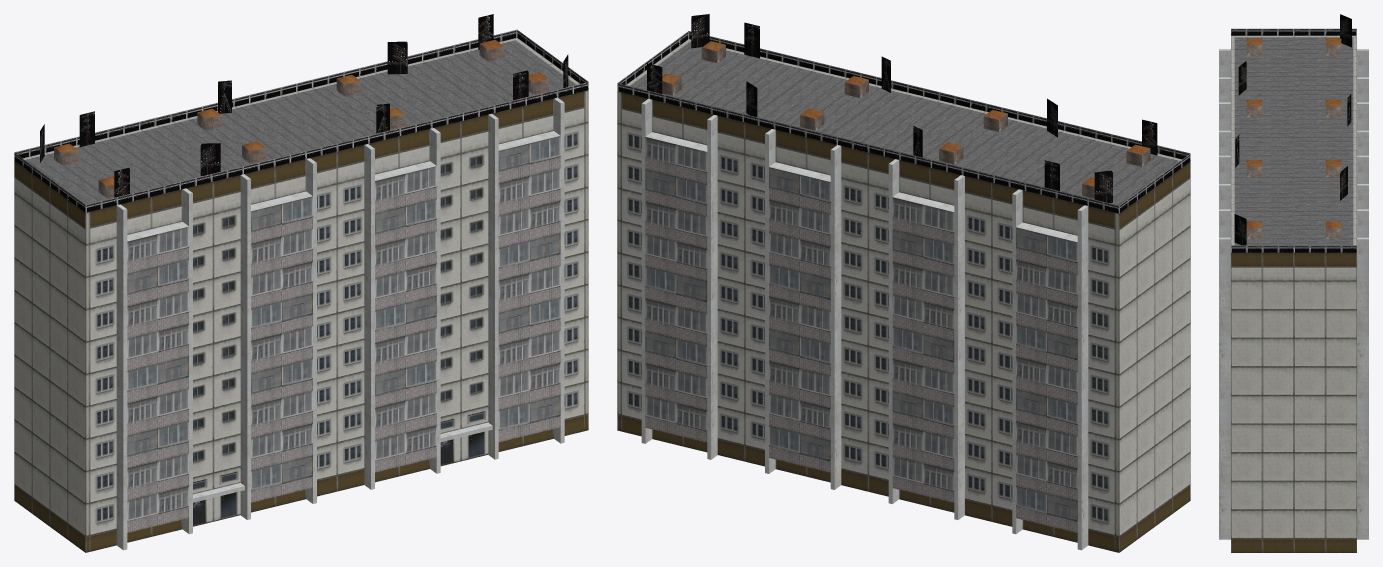
File: rus_build_9et_02a.fbx
The picture shows the model from 3 angles, left to right: view 1: azimuth 30°, elevation 25°; view 2: azimuth 150°, elevation 25°; view 3: azimuth 270°, elevation 25°; orthographic projection. The views are drawn at different scales.
Parts seen in each view (by area): view 1: Regroup13, rus_build_dec_01; view 2: Regroup13, rus_build_dec_01; view 3: Regroup13, rus_build_dec_01.
Part boxes in pixels (box(x1,y1,x2,y2)): Regroup13: box(14, 38, 588, 552); rus_build_dec_01: box(14, 14, 588, 212); Regroup13: box(617, 39, 1190, 552); rus_build_dec_01: box(617, 14, 1190, 213); Regroup13: box(1219, 35, 1368, 552); rus_build_dec_01: box(1231, 14, 1356, 252).
Bounding box in the file's own units: 4550 × 3220 × 1330.
